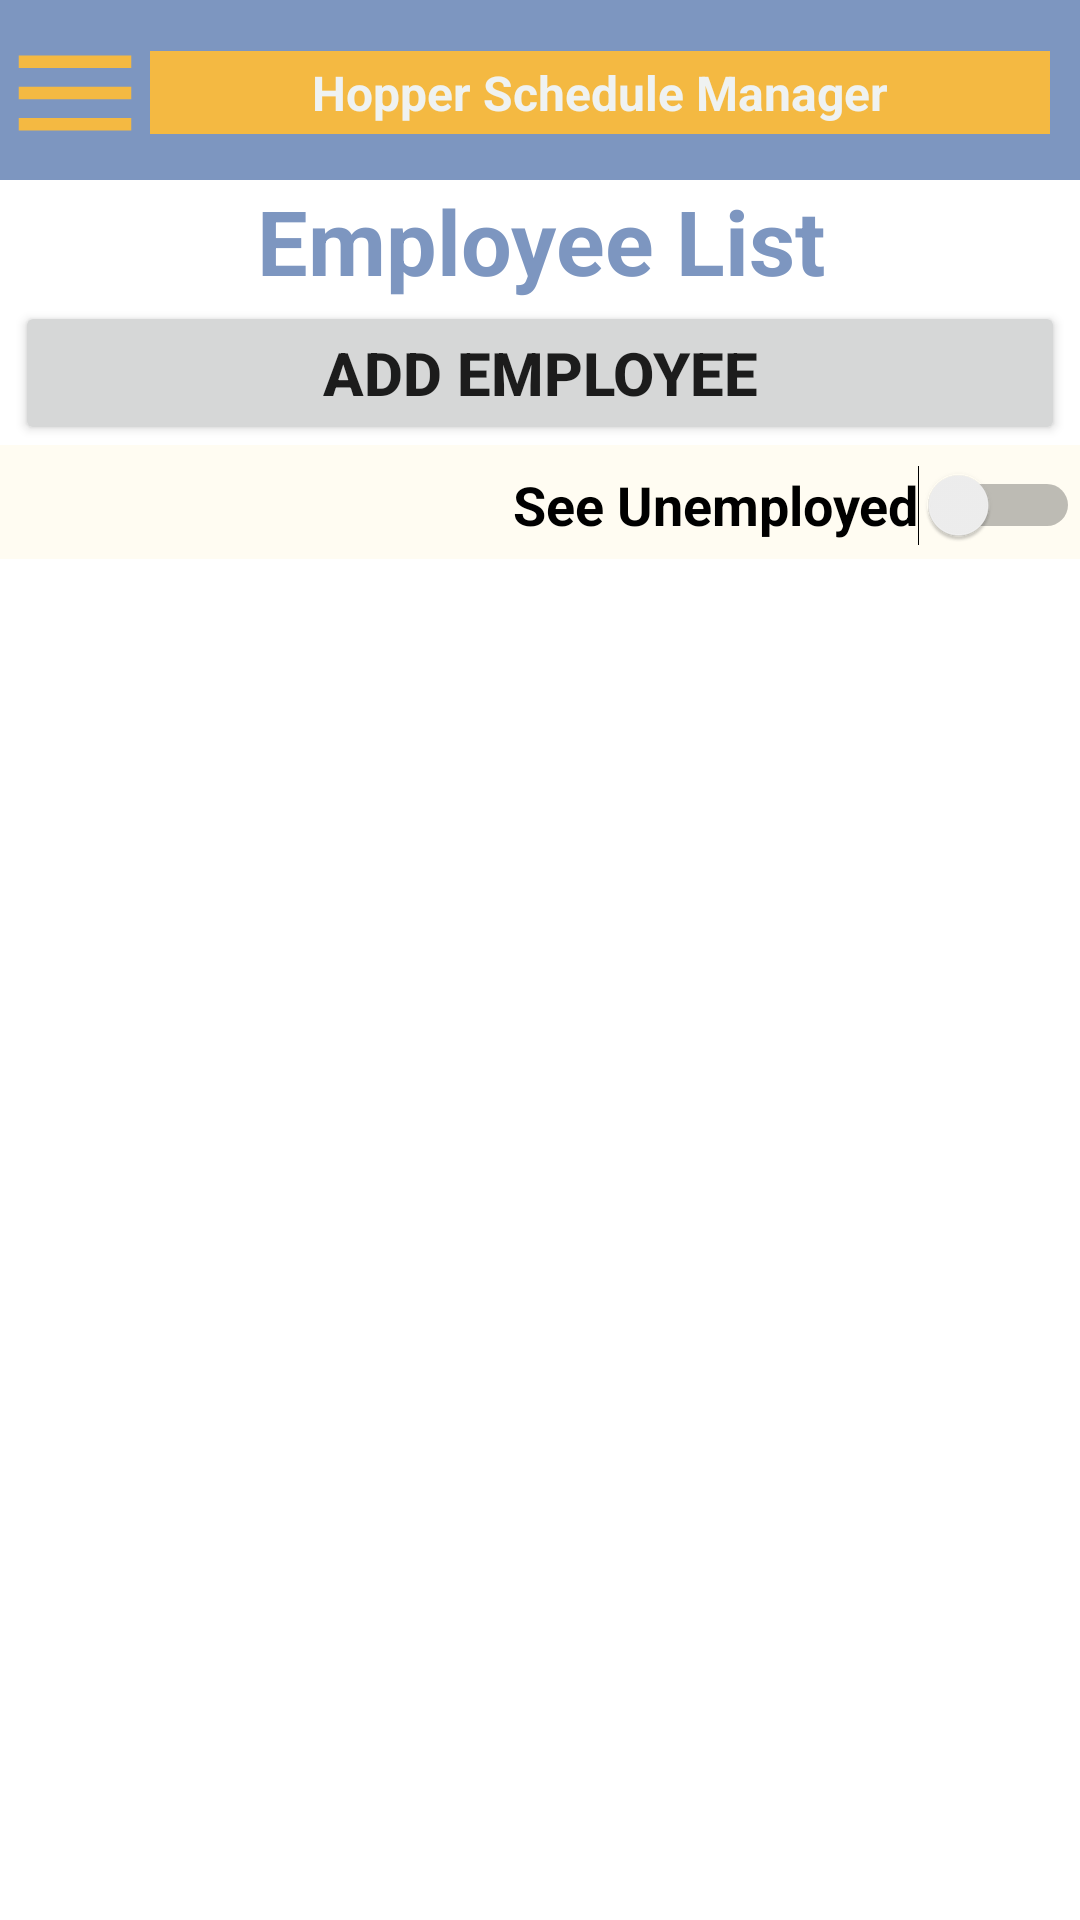

Where icons sit on this 1080×1920 app screen, as (x1, y1, x2, y2):
menu: (18, 55, 132, 131)
